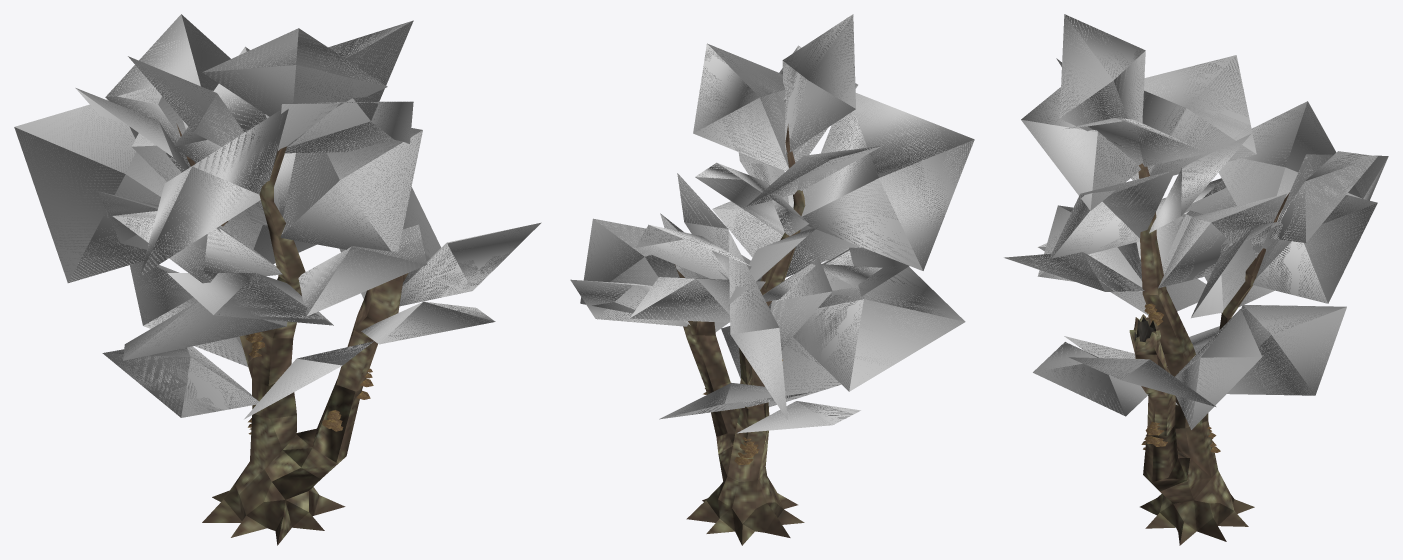
File: Tree5B_LOD1.fbx
3 views of the same model, side by side, from view 1: azimuth 30°, elevation 25°; view 2: azimuth 150°, elevation 25°; view 3: azimuth 270°, elevation 25° (orthographic). The views are drawn at different scales.
Visible parts, largest first — view 1: Tree5B_LOD1; view 2: Tree5B_LOD1; view 3: Tree5B_LOD1.
Boxes of the visible parts, x1,y1,x2,y2 form: Tree5B_LOD1: (14, 14, 541, 545); Tree5B_LOD1: (570, 14, 974, 545); Tree5B_LOD1: (1004, 14, 1388, 545).
Bounding box in the file's own units: 0.2127 × 0.1895 × 0.2625.
